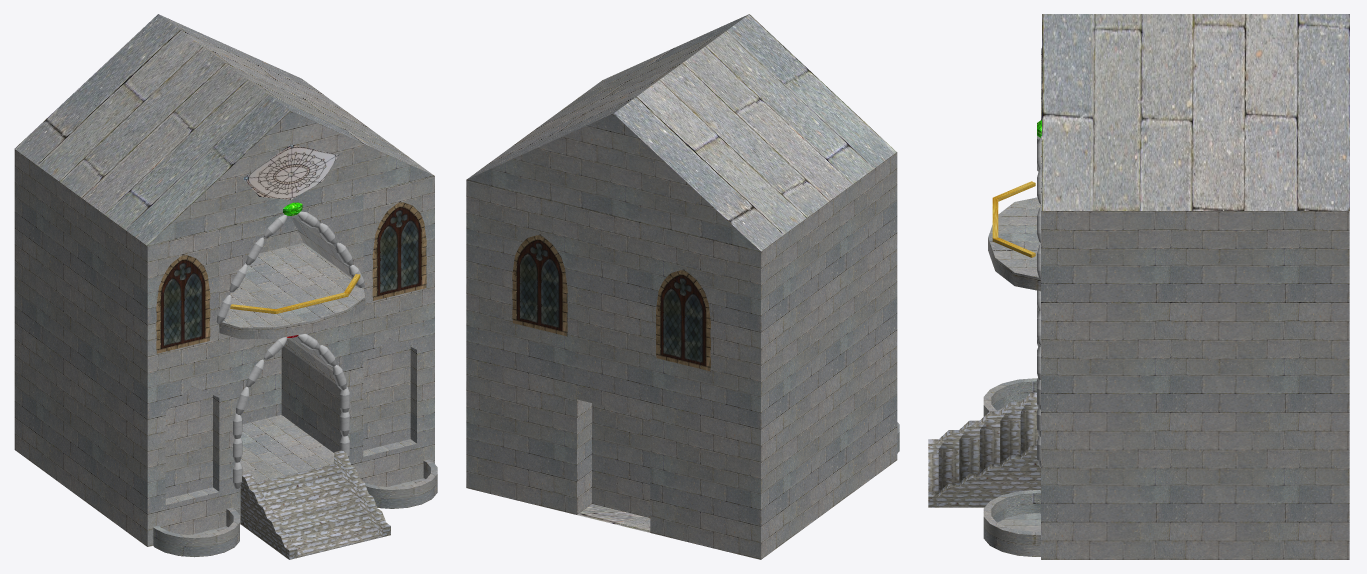
Rendered from Castle.FBX.
3 views of the same model, side by side, from view 1: azimuth 30°, elevation 25°; view 2: azimuth 150°, elevation 25°; view 3: azimuth 270°, elevation 25° (orthographic). The views are drawn at different scales.
Visible parts, largest first — view 1: Castle, CastlePrism, Staircase, Window, Window001, Object001, WaterCollector, WaterCollector2; view 2: Castle, CastlePrism, Window003, Window002; view 3: Castle, CastlePrism, Staircase, WaterCollector2, WaterCollector.
Boxes of the visible parts, left/top/right/bottom form: Castle: left=14, top=149, right=434, bottom=546; CastlePrism: left=14, top=14, right=434, bottom=245; Staircase: left=240, top=450, right=390, bottom=559; Window: left=156, top=254, right=210, bottom=353; Window001: left=372, top=201, right=426, bottom=300; Object001: left=243, top=144, right=338, bottom=199; WaterCollector: left=153, top=507, right=239, bottom=557; WaterCollector2: left=364, top=459, right=437, bottom=508; Castle: left=466, top=152, right=897, bottom=559; CastlePrism: left=466, top=14, right=896, bottom=251; Window003: left=512, top=234, right=567, bottom=336; Window002: left=656, top=269, right=710, bottom=371; Castle: left=988, top=48, right=1349, bottom=559; CastlePrism: left=1042, top=14, right=1349, bottom=210; Staircase: left=928, top=392, right=1040, bottom=507; WaterCollector2: left=983, top=490, right=1040, bottom=556; WaterCollector: left=983, top=378, right=1037, bottom=416.
Size of the model in its own units: 100 by 133 by 110.
